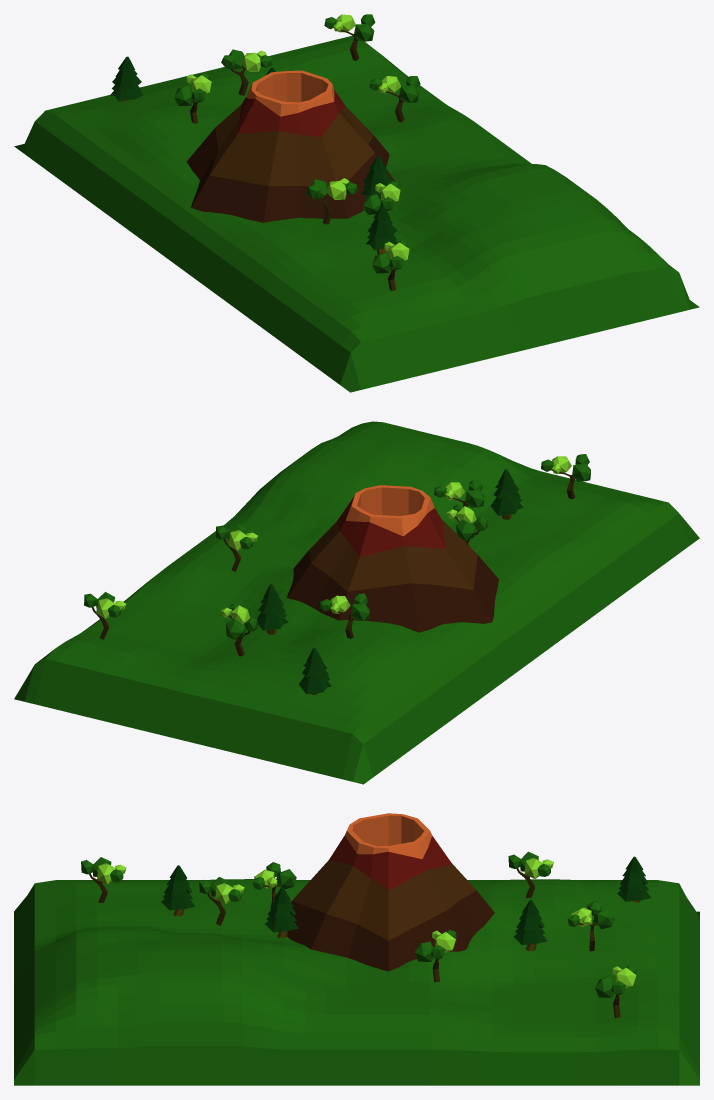
File: RocketVer1_1-2.fbx
The picture shows the model from 3 angles, top to bottom: view 1: azimuth 30°, elevation 25°; view 2: azimuth 150°, elevation 25°; view 3: azimuth 270°, elevation 25°; orthographic projection.
Parts seen in each view (by area): view 1: Plane; view 2: Plane; view 3: Plane.
Boxes of the visible parts, x1,y1,x2,y2 form: Plane: (14, 14, 699, 392); Plane: (14, 421, 699, 784); Plane: (14, 813, 699, 1085).
Size of the model in its own units: 6000 by 2305 by 10000.
